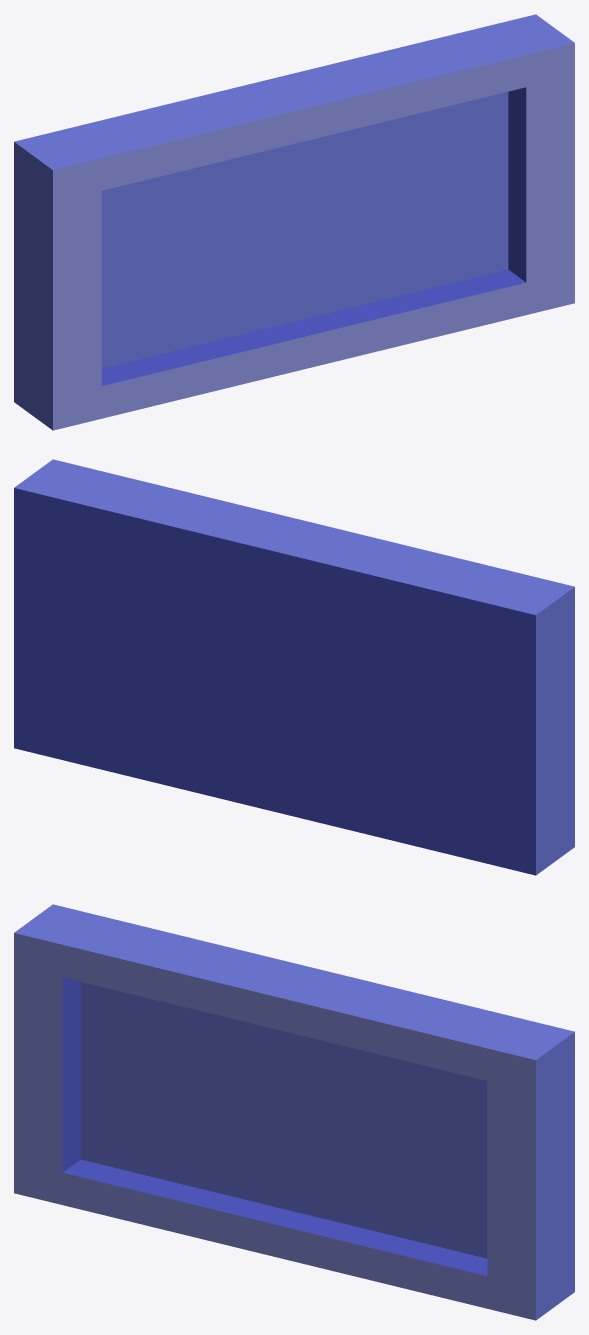
File: time.fbx
3 views of the same model, one above another, from view 1: azimuth 30°, elevation 25°; view 2: azimuth 150°, elevation 25°; view 3: azimuth 330°, elevation 25° (orthographic).
Visible parts, largest first — view 1: time; view 2: time; view 3: time.
Part boxes in pixels (left/top/right/bottom): time: left=14, top=14, right=574, bottom=430; time: left=14, top=459, right=574, bottom=875; time: left=14, top=904, right=574, bottom=1320.
Bounding box in the file's own units: 113 × 54.07 × 14.69.
